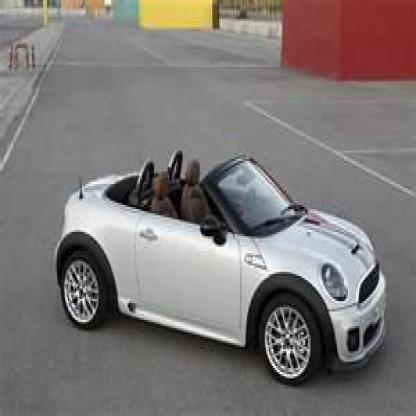Vehicle: (51, 150, 390, 391)
